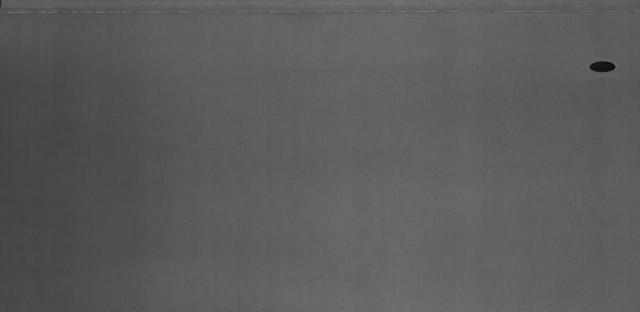punching_hole: (577, 56, 622, 77)
